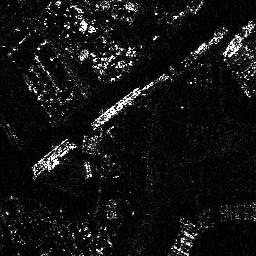ship: (32, 137, 76, 176)
